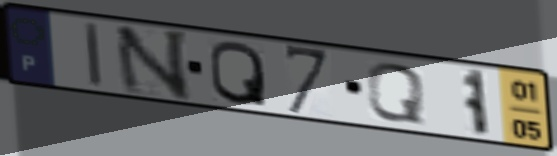1: (459, 66, 494, 140)
7: (283, 42, 335, 117)
I: (82, 19, 105, 90)
N: (110, 25, 194, 103)
Q: (207, 39, 271, 109), (364, 61, 428, 126)
